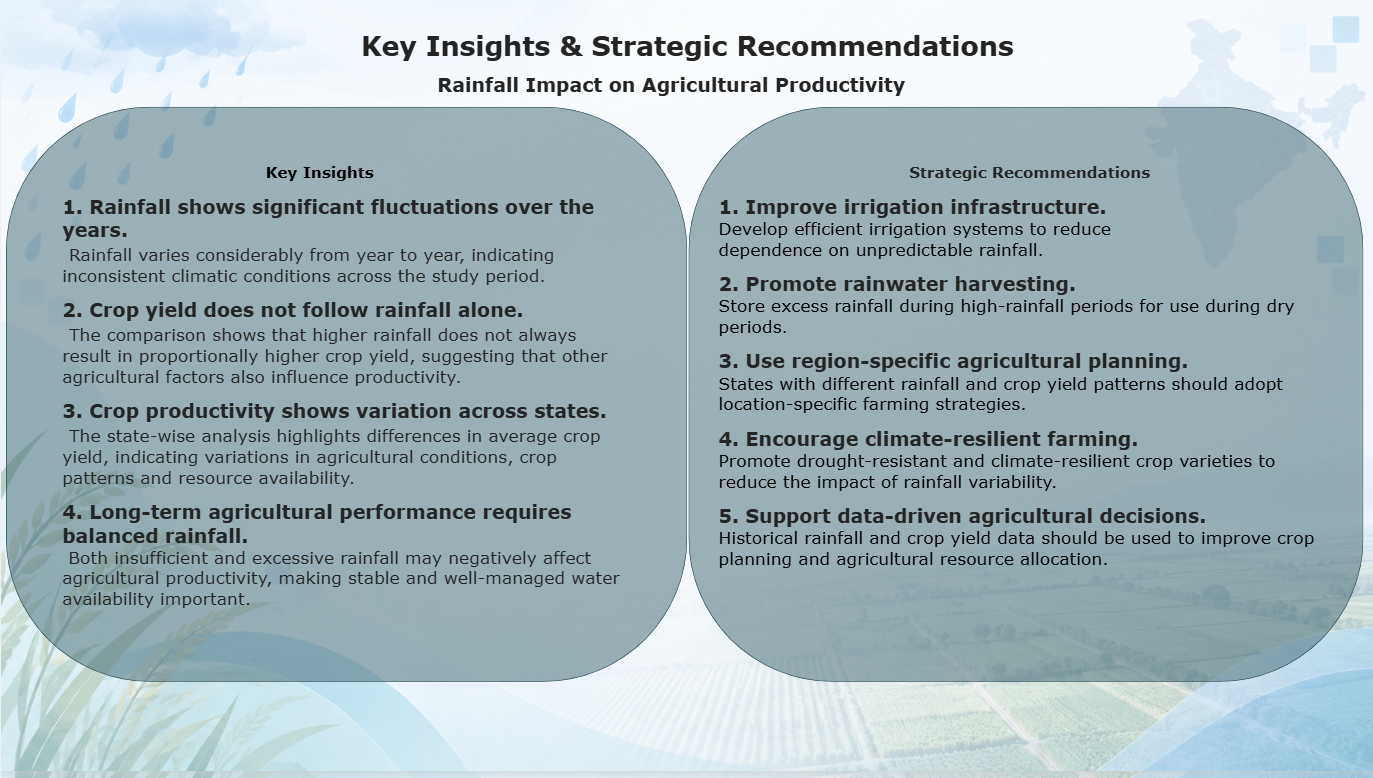

The dashboard page shown, as its layout file describes it:
{"tool":"powerbi","page":{"name":"Insights and Recommedation","canvas":[1920,1080],"ordinal":1},"visuals":[{"type":"textbox","box":[289.8,43.6,1337.3,48.9],"z":0},{"type":"textbox","box":[609.3,104.7,700.1,45.4],"z":1},{"type":"shape","box":[7,151.9,951.4,803.1],"z":2},{"type":"shape","box":[960.2,151.9,942.7,803.1],"z":3},{"type":"textbox","box":[256.6,230.4,377.1,43.6],"z":4},{"type":"textbox","box":[1246.5,230.4,380.6,43.6],"z":5},{"type":"textbox","box":[1002.1,274.1,841.5,614.5],"z":6},{"type":"textbox","box":[85.5,274.1,792.6,614.5],"z":7}]}

Visuals, with their boxes in screenshot pixels (x1, y1, x2, y2), scaled from the page's 1920x1080 canvas onto the 1373x778 screenshot:
textbox: region(207, 31, 1164, 67)
textbox: region(436, 75, 936, 108)
shape: region(5, 109, 685, 688)
shape: region(687, 109, 1361, 688)
textbox: region(183, 166, 453, 197)
textbox: region(891, 166, 1164, 197)
textbox: region(717, 197, 1318, 640)
textbox: region(61, 197, 628, 640)
